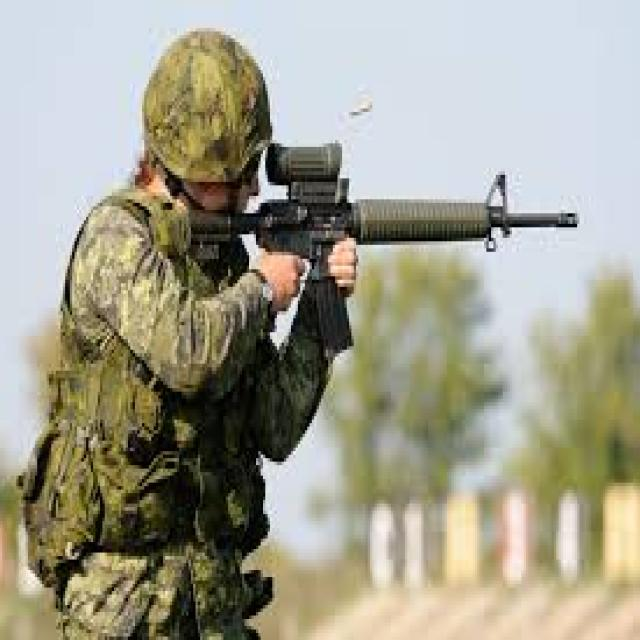gun: (135, 130, 581, 367)
